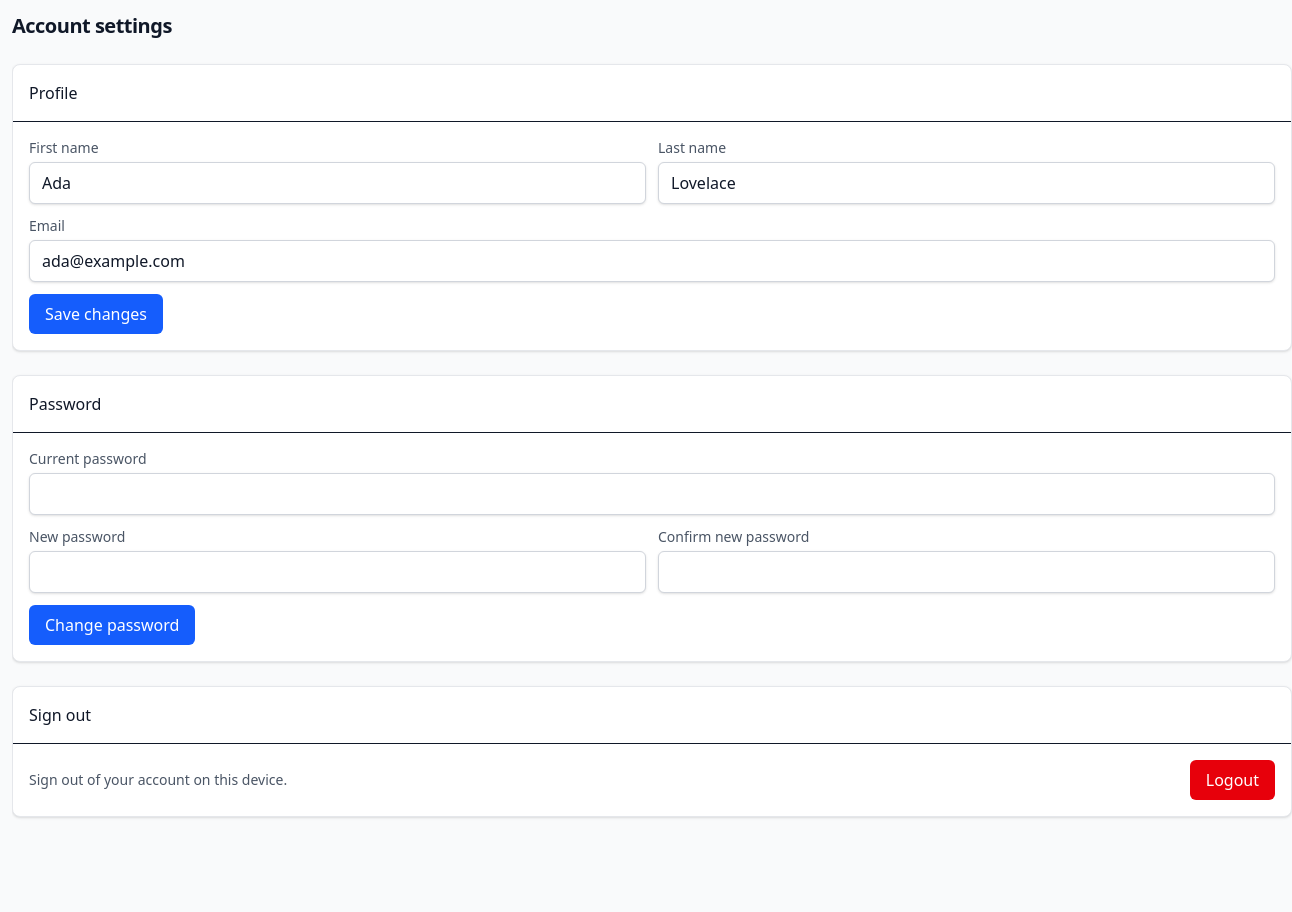
Account page › loads profile and allows saving
expect the heading "Account settings" is shown: met, box x1=12 y1=12 x2=172 y2=39
Replace the text in the field below "First name" with "Grace". click: (338, 183)
box: x1=29 y1=162 x2=646 y2=204
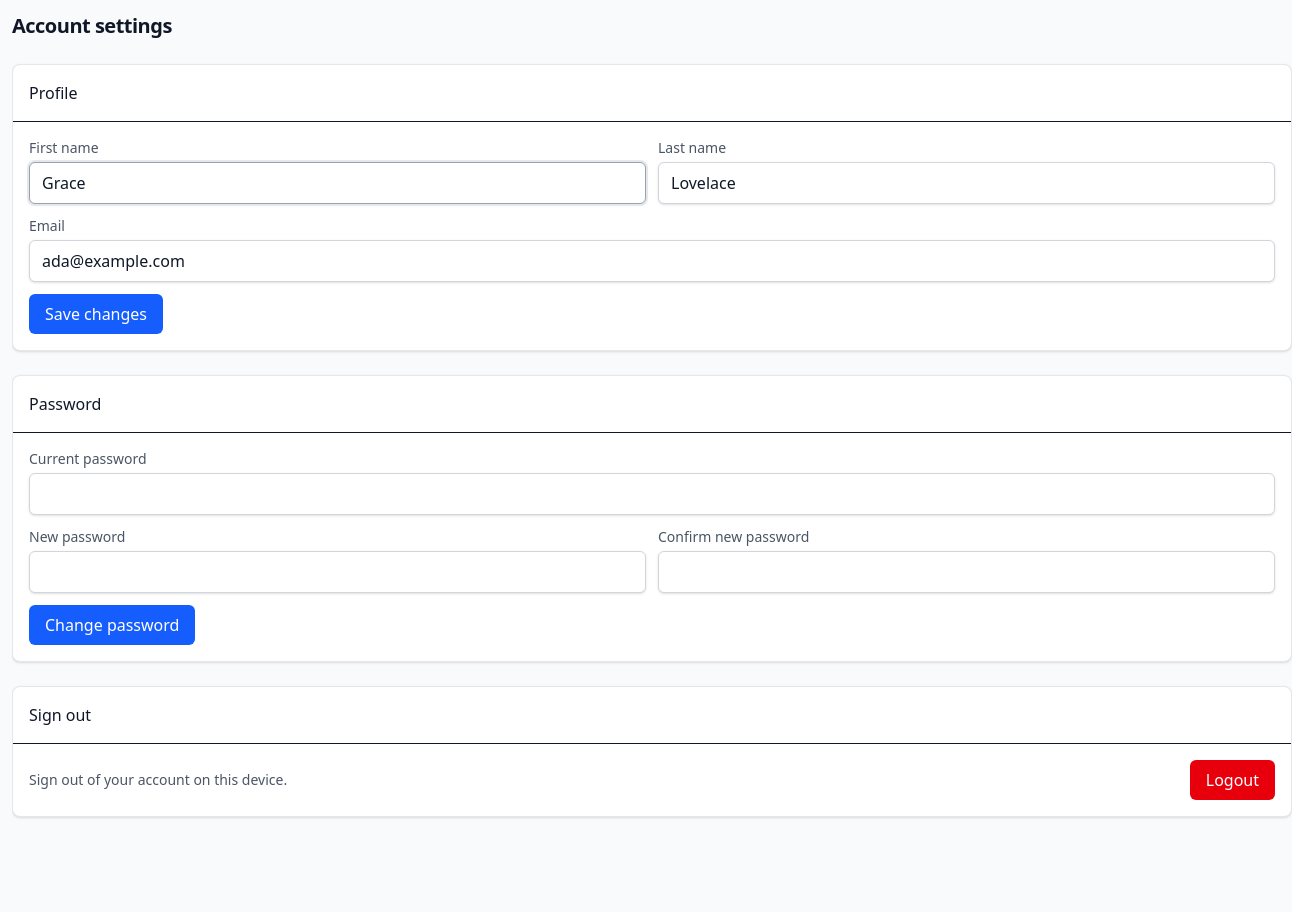
Click the button "Save changes". click: (96, 314)
box: x1=29 y1=294 x2=163 y2=334
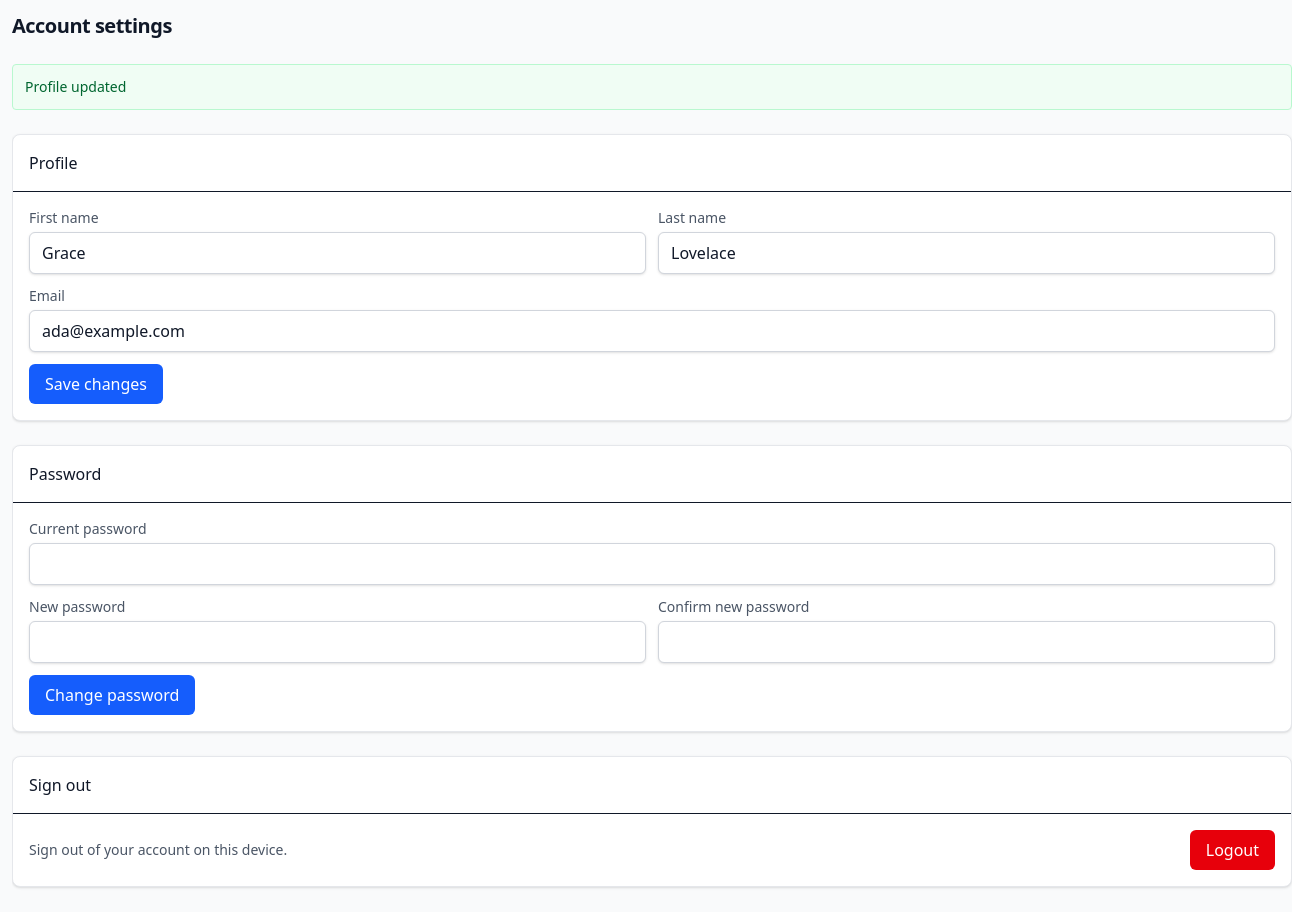
expect the text "Profile updated" is shown: met, box x1=12 y1=64 x2=1291 y2=110
